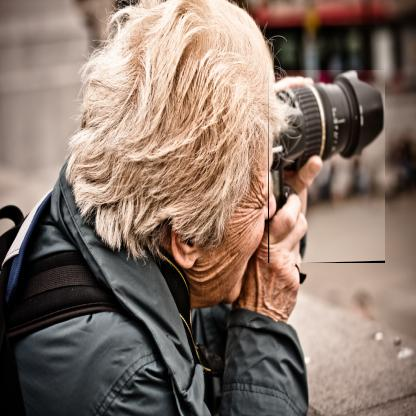Camera: (269, 71, 387, 265)
